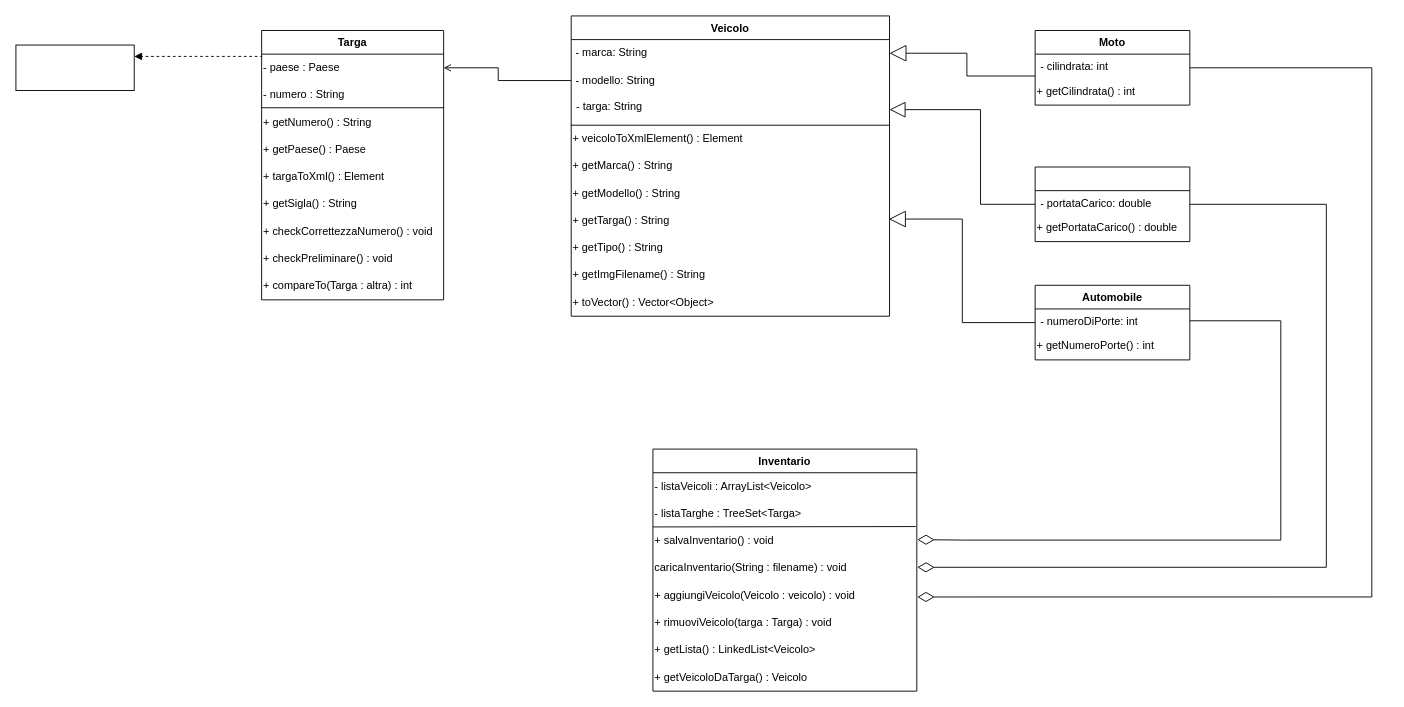
Image size: 1404x707. Some labels were removed from this diagram. Each missing label, with the box of its shape:
Camion: (1034, 166, 1190, 242)
«interface» Comparable<Targa>: (15, 44, 134, 91)
